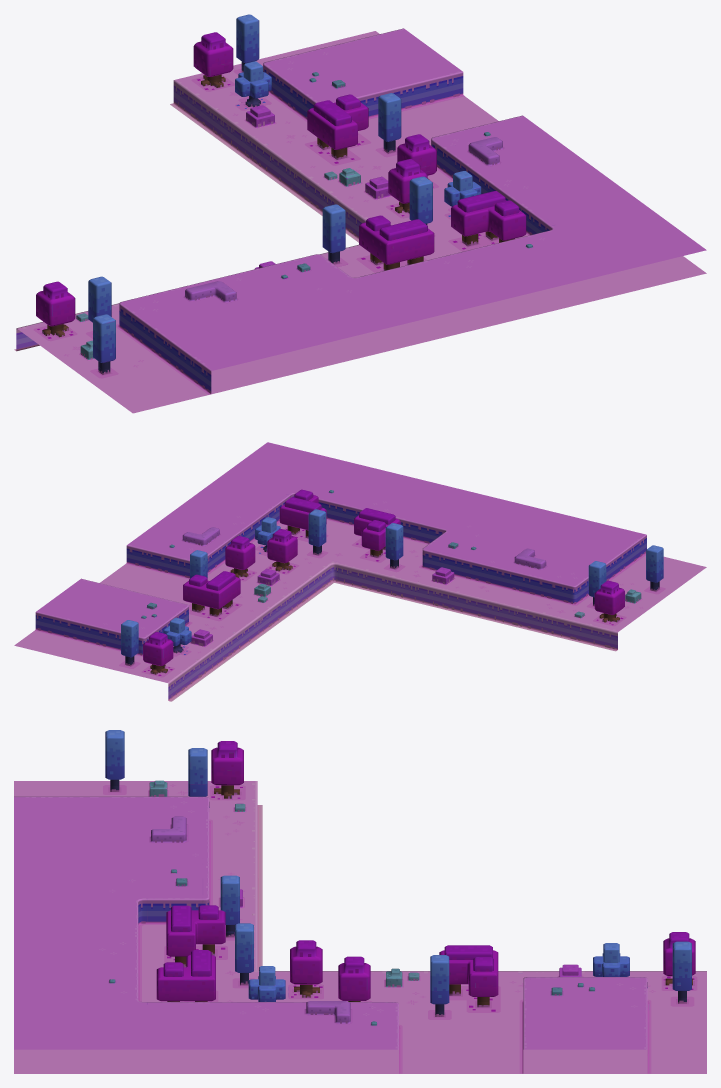
File: C_forest2_out_LU.fbx
3 renders of one model, top to bottom at view 1: azimuth 30°, elevation 25°; view 2: azimuth 150°, elevation 25°; view 3: azimuth 270°, elevation 25°, orthographic. The views are drawn at different scales.
Visible parts, largest first — view 1: C_forest2_out_LU.001; view 2: C_forest2_out_LU.001; view 3: C_forest2_out_LU.001.
Part boxes in pixels (x1,y1,x2,y2): C_forest2_out_LU.001: (14, 14, 706, 413); C_forest2_out_LU.001: (14, 442, 706, 701); C_forest2_out_LU.001: (14, 730, 706, 1073).
Bounding box in the file's own units: 117 × 15.31 × 117.
